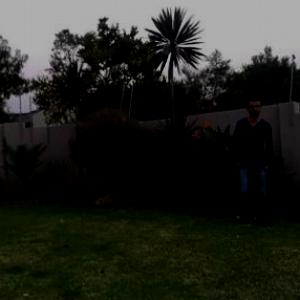follow: (233, 90, 274, 233)
